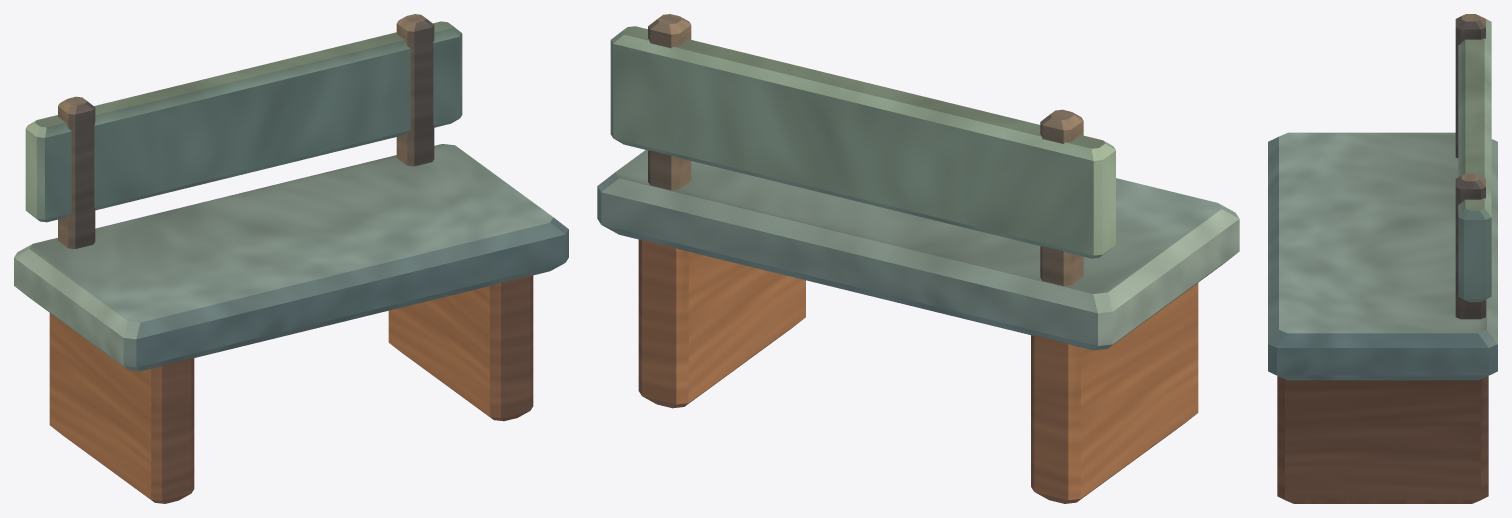
File: furniture_blue_bench.glb
3 views of the same model, side by side, from view 1: azimuth 30°, elevation 25°; view 2: azimuth 150°, elevation 25°; view 3: azimuth 270°, elevation 25° (orthographic). The views are drawn at different scales.
Parts seen in each view (by area): view 1: Blaue Sitzbank; view 2: Blaue Sitzbank; view 3: Blaue Sitzbank.
Part boxes in pixels (x1,y1,x2,y2): Blaue Sitzbank: [14, 14, 568, 503]; Blaue Sitzbank: [597, 14, 1239, 503]; Blaue Sitzbank: [1268, 14, 1497, 503].
Size of the model in its own units: 1.34 by 0.953 by 0.62.
Materials: 2 (2 with a texture image).
